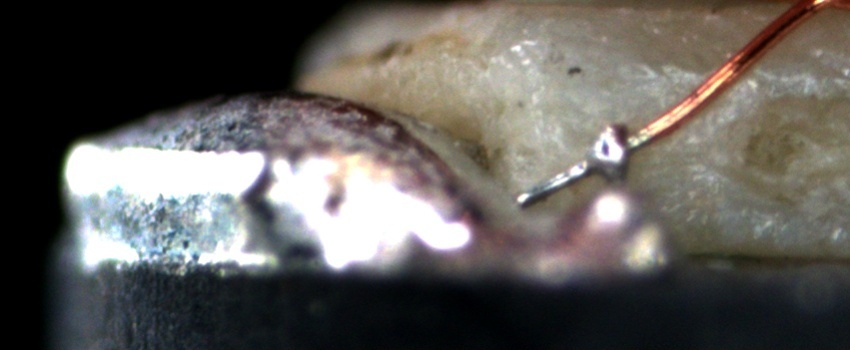CL: (804, 0, 848, 9)
DL: (606, 46, 849, 105)
TB: (584, 113, 635, 194)
TS: (514, 128, 651, 207)
TTCW: (508, 90, 697, 209)
